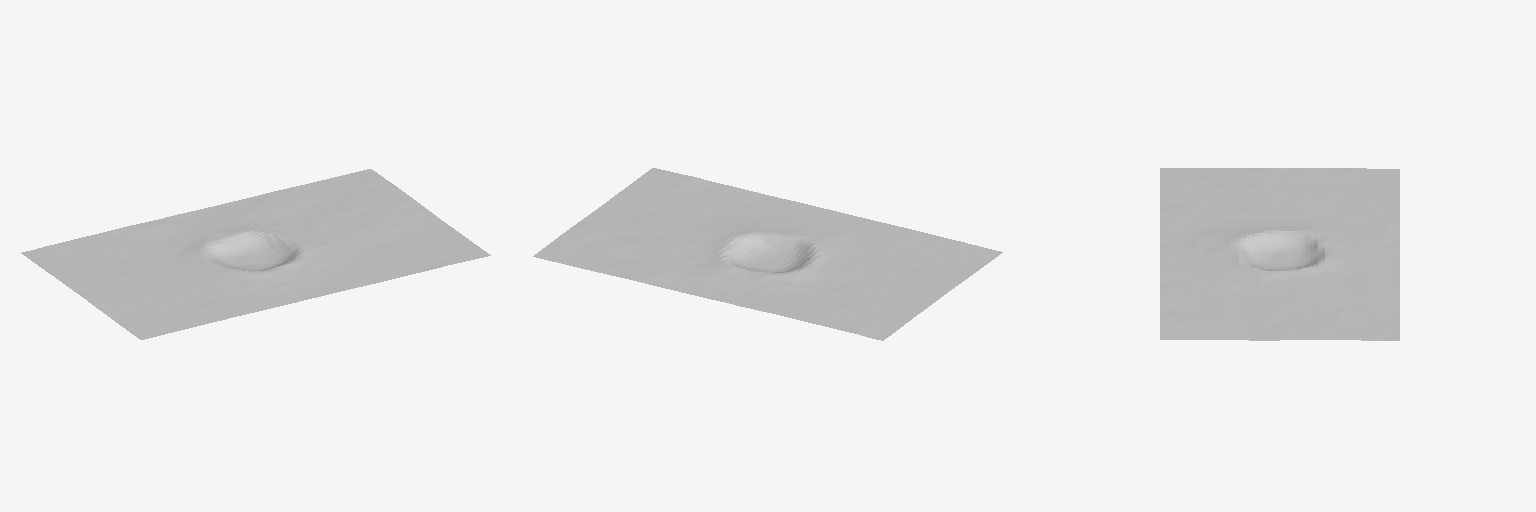
The model's file is Metor Crater.obj.
3 views of the same model, side by side, from view 1: azimuth 30°, elevation 25°; view 2: azimuth 150°, elevation 25°; view 3: azimuth 270°, elevation 25° (orthographic).
Parts seen in each view (by area): view 1: EXPORT_ESRI_AERIAL_WM_EXPORT_ESRI_AERIAL_WM.002; view 2: EXPORT_ESRI_AERIAL_WM_EXPORT_ESRI_AERIAL_WM.002; view 3: EXPORT_ESRI_AERIAL_WM_EXPORT_ESRI_AERIAL_WM.002.
Boxes of the visible parts, box(x1,y1,x2,y2) form: EXPORT_ESRI_AERIAL_WM_EXPORT_ESRI_AERIAL_WM.002: box(21, 169, 490, 339); EXPORT_ESRI_AERIAL_WM_EXPORT_ESRI_AERIAL_WM.002: box(533, 168, 1002, 340); EXPORT_ESRI_AERIAL_WM_EXPORT_ESRI_AERIAL_WM.002: box(1160, 168, 1399, 340).
Size of the model in its own units: 6421 by 170 by 3822.